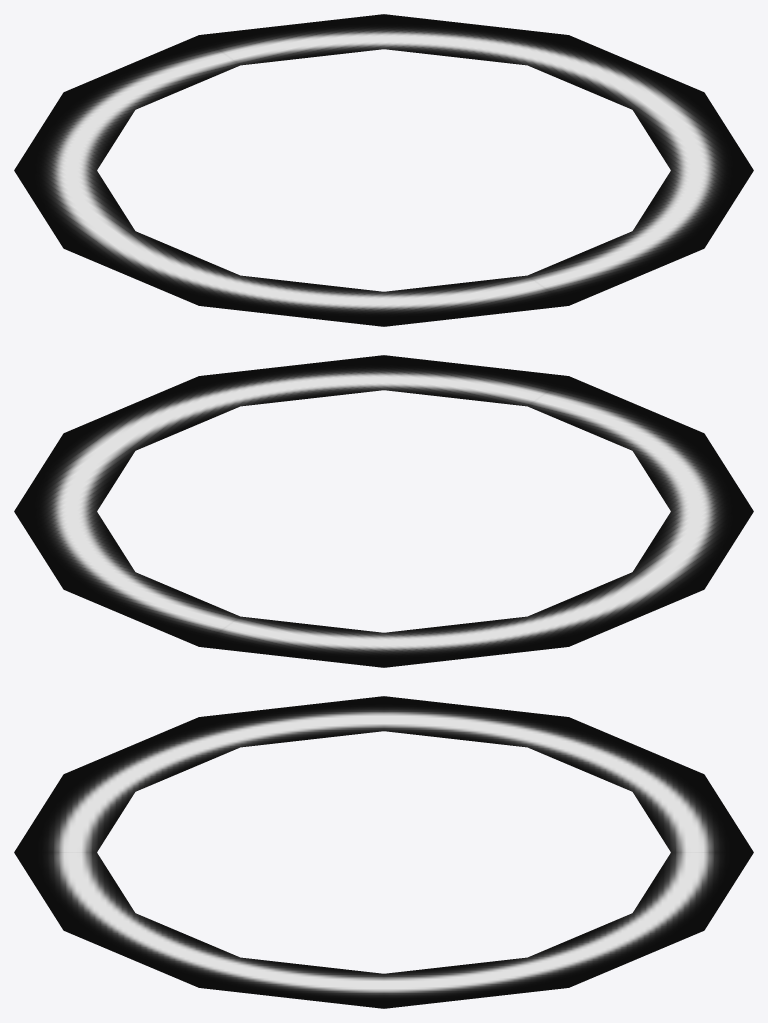
File: post_right.fbx
3 renders of one model, top to bottom at view 1: azimuth 30°, elevation 25°; view 2: azimuth 150°, elevation 25°; view 3: azimuth 270°, elevation 25°, orthographic.
Parts seen in each view (by area): view 1: post_right; view 2: post_right; view 3: post_right.
Part boxes in pixels (box(x1,y1,x2,y2)): post_right: box(14, 14, 753, 326); post_right: box(14, 355, 753, 667); post_right: box(14, 696, 753, 1008).
Bounding box in the file's own units: 369 × 0 × 369.
